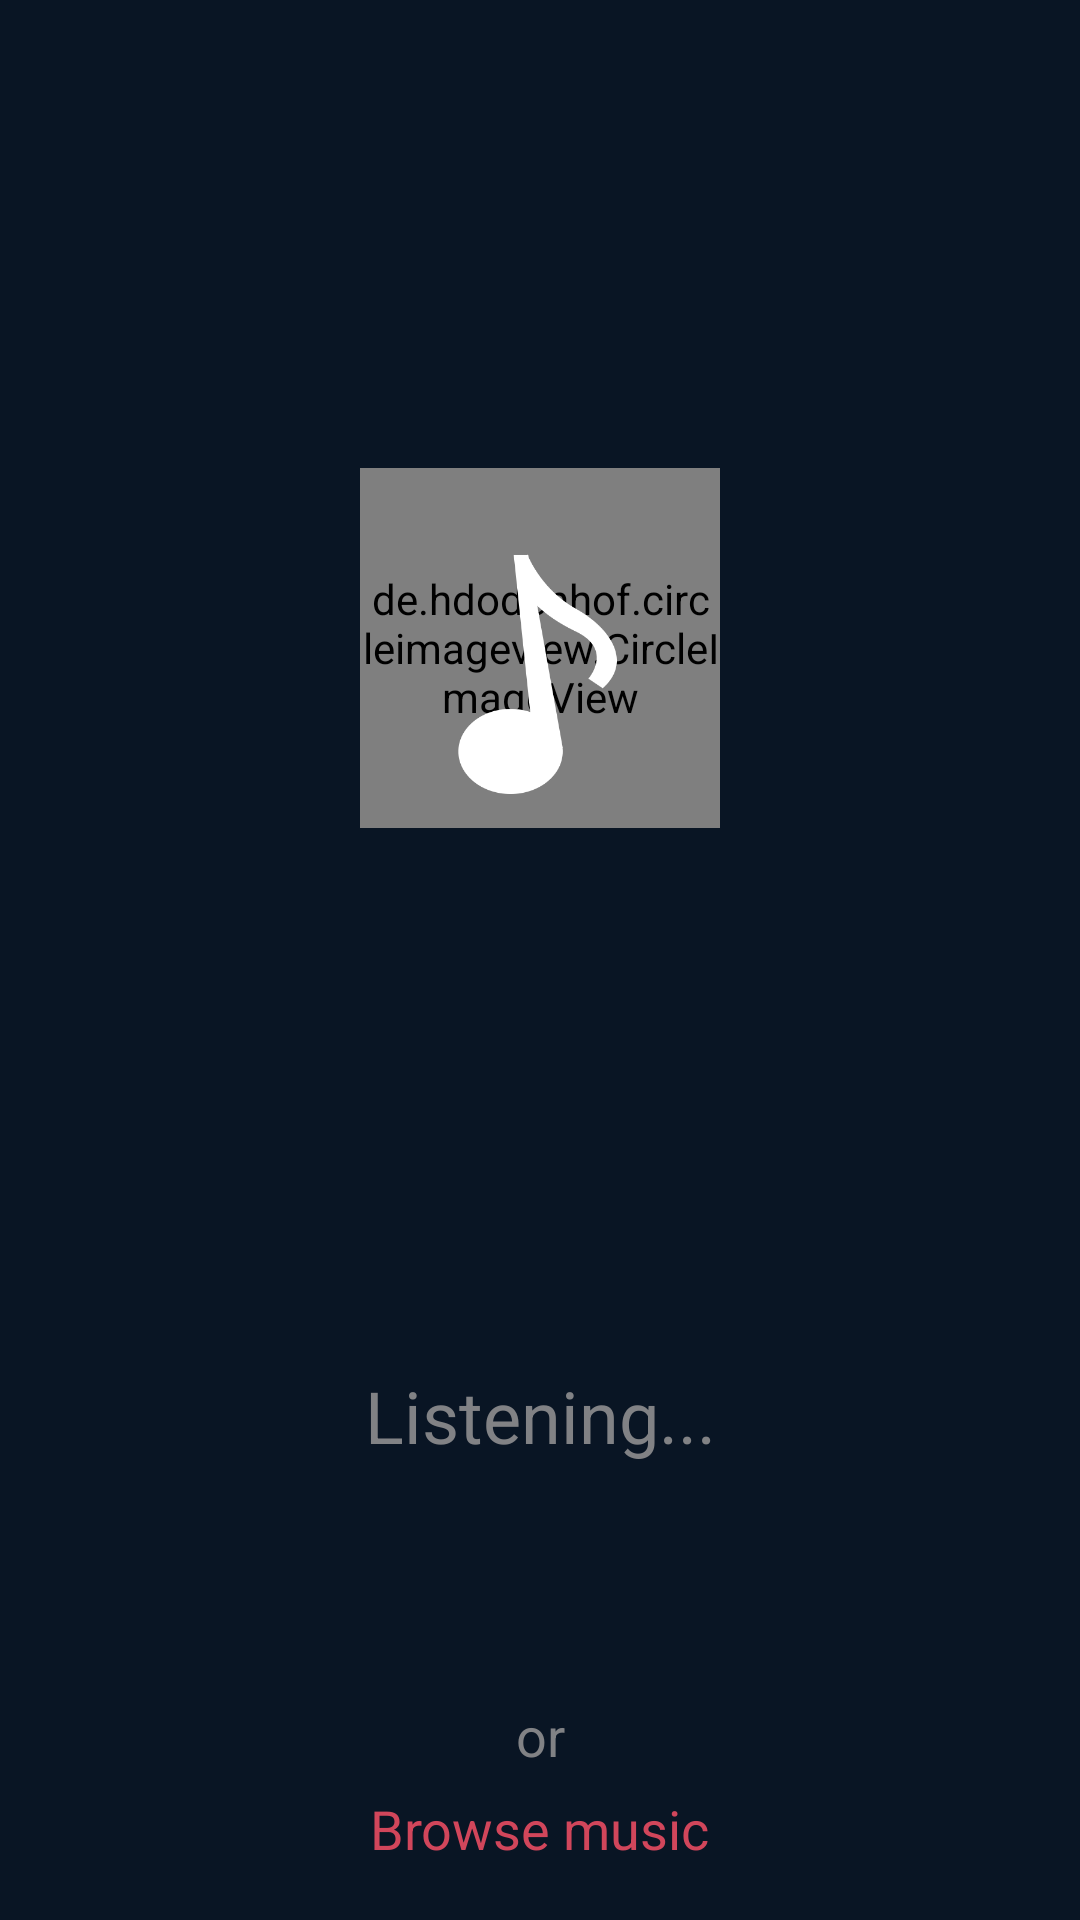

Named icons in this screenshot (1080px x 1920px) and their bounding boxes, [left=x1, top=y1, right=x2, bottom=y2]:
music: [left=421, top=554, right=660, bottom=794]
